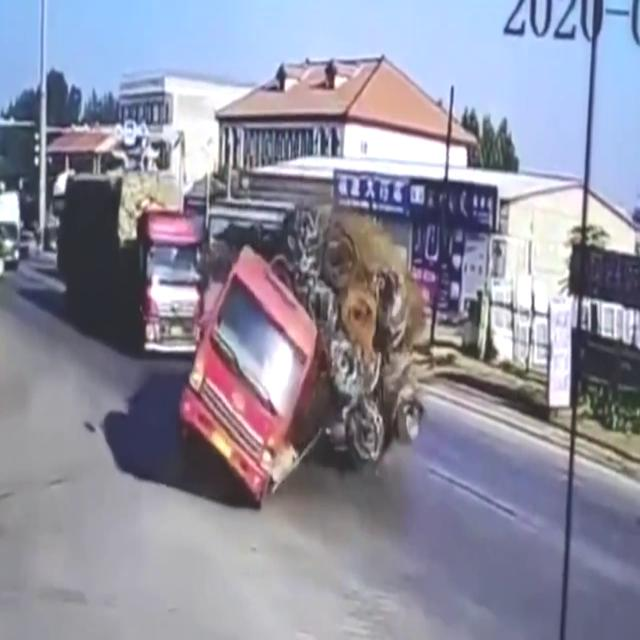accident: (177, 202, 427, 512)
